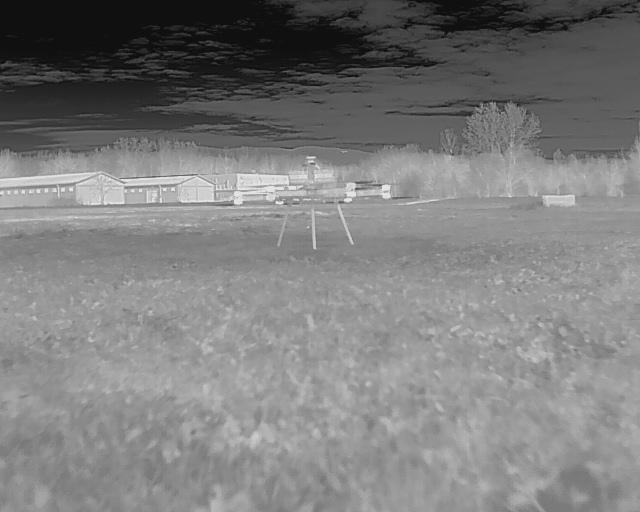drone: (220, 162, 392, 254)
